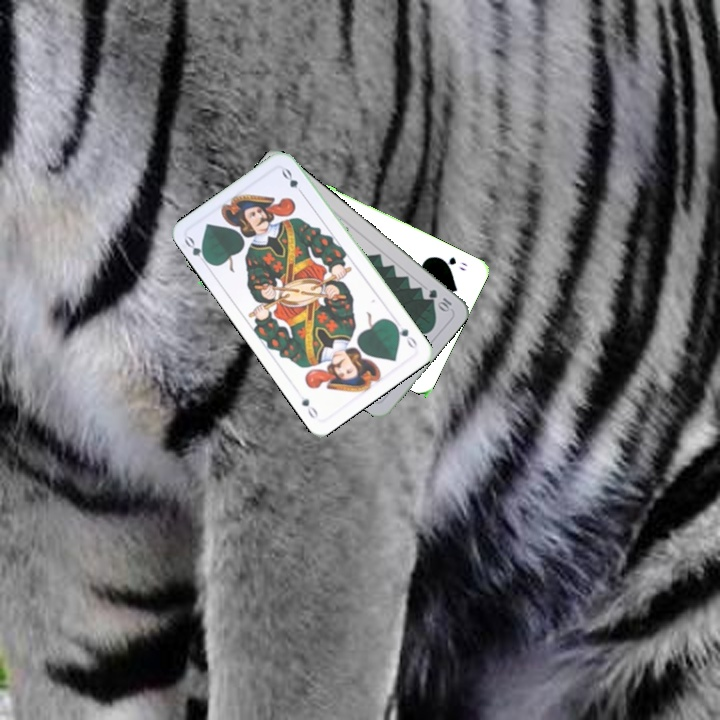G10: (424, 285, 455, 315)
GO: (180, 232, 213, 269), (389, 318, 420, 352), (434, 253, 470, 273)
